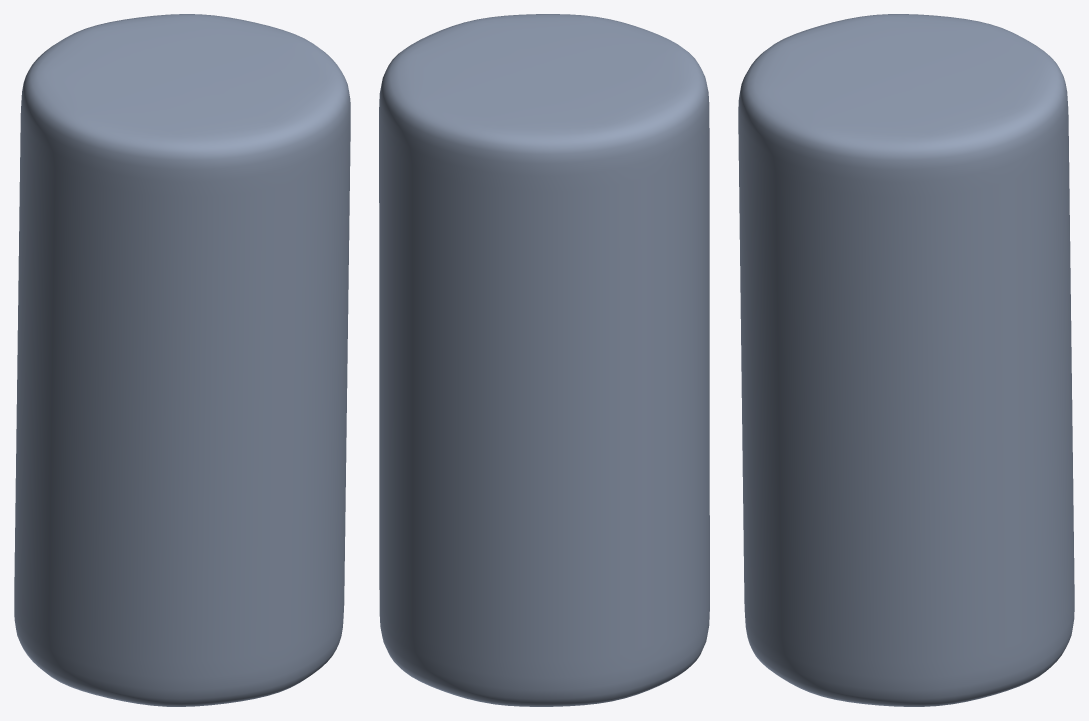
The picture shows the model from 3 angles, left to right: view 1: azimuth 30°, elevation 25°; view 2: azimuth 150°, elevation 25°; view 3: azimuth 270°, elevation 25°; orthographic projection.
Visible parts, largest first — view 1: Cylinder.003; view 2: Cylinder.003; view 3: Cylinder.003.
Part boxes in pixels (x1=…): Cylinder.003: x1=14, y1=14, x2=350, y2=706; Cylinder.003: x1=379, y1=14, x2=709, y2=706; Cylinder.003: x1=738, y1=14, x2=1074, y2=706.
Bounding box in the file's own units: 0.00664 × 0.0126 × 0.00668.
